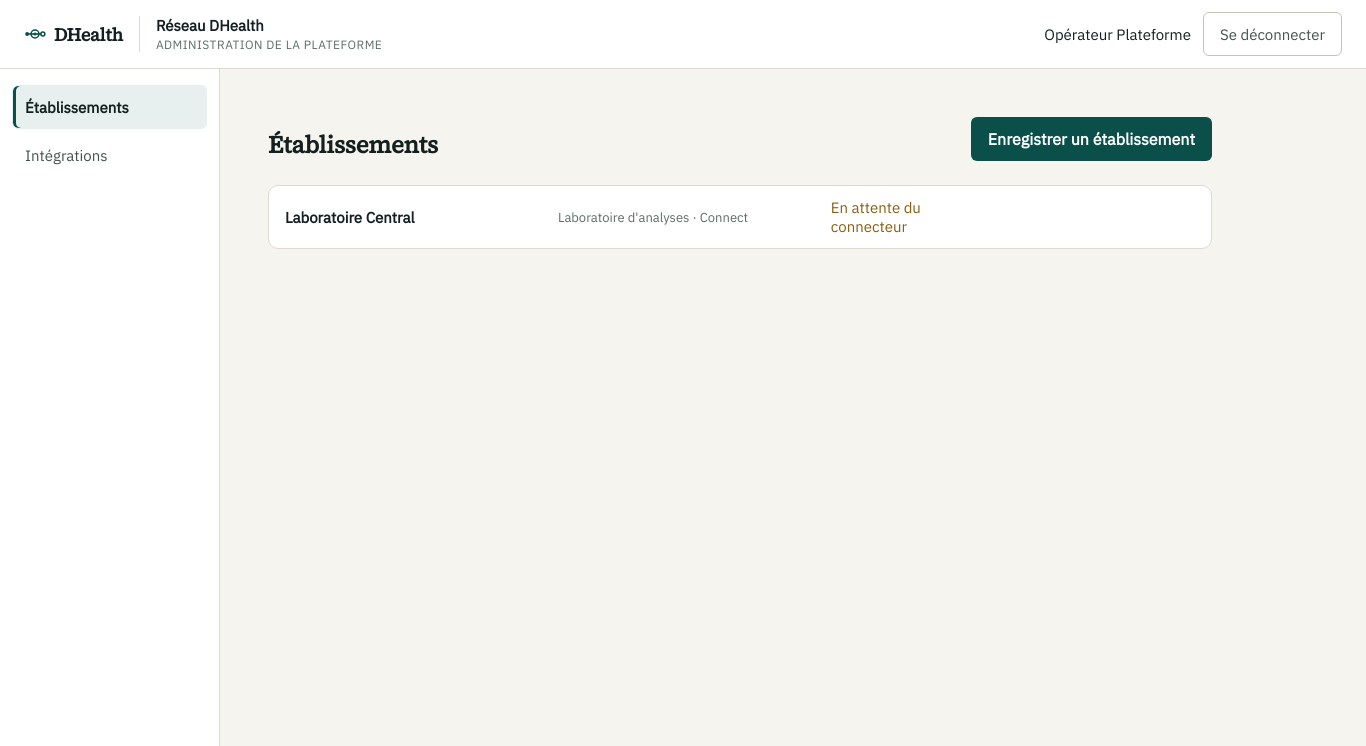
Test: the connect facility, told truthfully › PS8: production routing is reported as unavailable, from the server verdict
Step 1. Click the button "Laboratoire Central" → [740, 217], box top-left (268, 185), bottom-right (1212, 249)
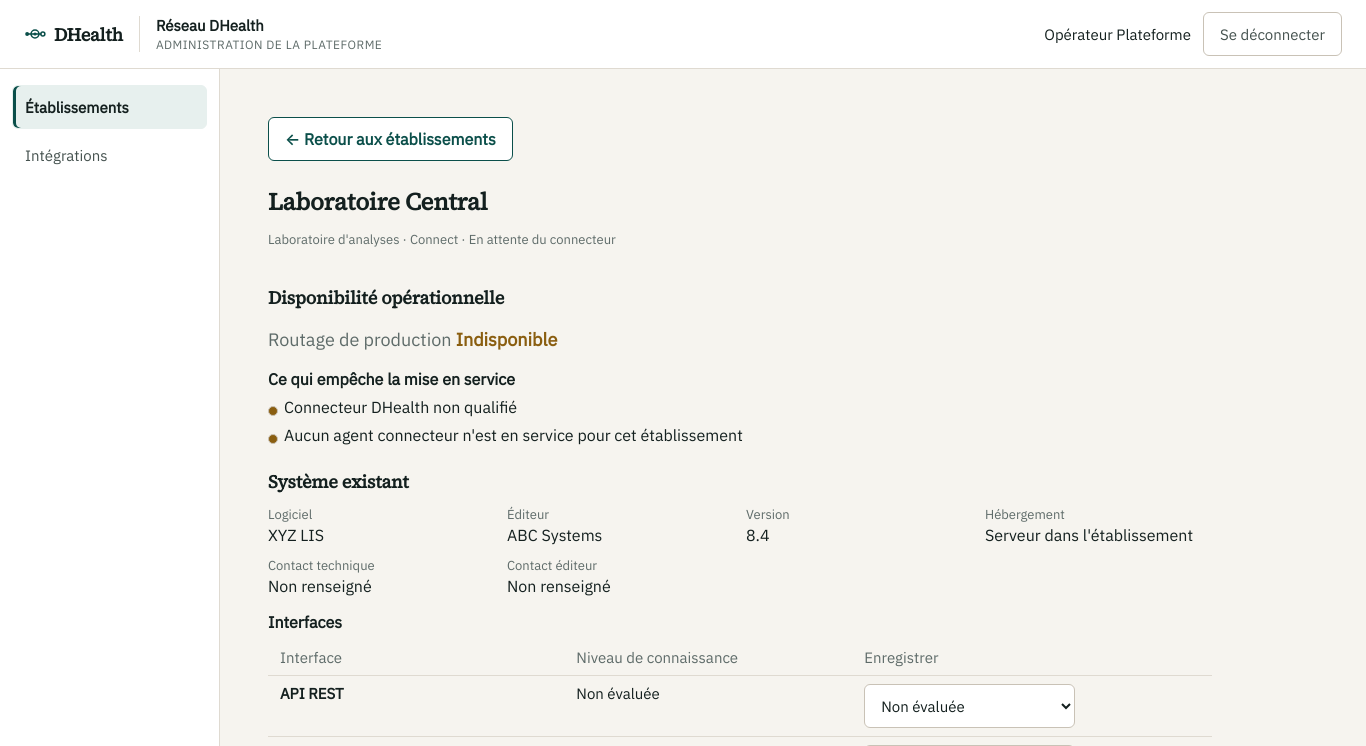
Result: the text "Indisponible" is shown at top-left (456, 328), bottom-right (557, 351)
Result: the list item "Connecteur DHealth non qualifié" is shown at top-left (284, 397), bottom-right (517, 417)
